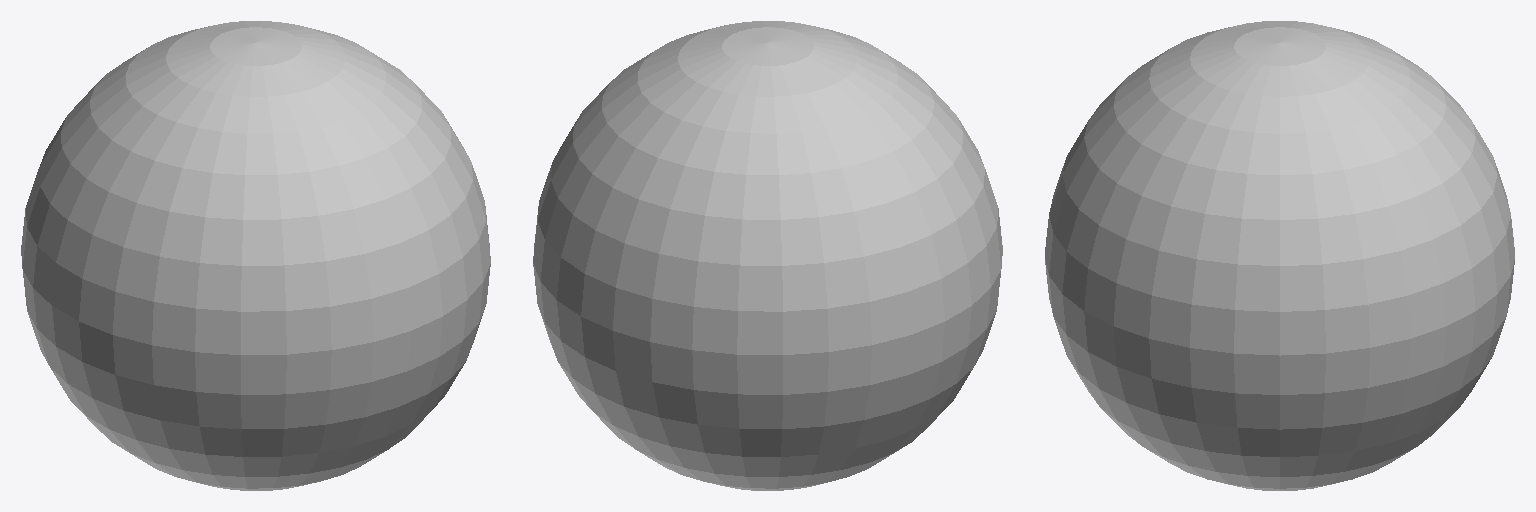
File: mapconf.obj
3 renders of one model, left to right at view 1: azimuth 30°, elevation 25°; view 2: azimuth 150°, elevation 25°; view 3: azimuth 270°, elevation 25°, orthographic.
Parts seen in each view (by area): view 1: Sphere; view 2: Sphere; view 3: Sphere.
Boxes of the visible parts, box(x1,y1,x2,y2) form: Sphere: box(21, 21, 490, 490); Sphere: box(533, 21, 1002, 490); Sphere: box(1045, 21, 1514, 490).
Bounding box in the file's own units: 2 × 2 × 2.